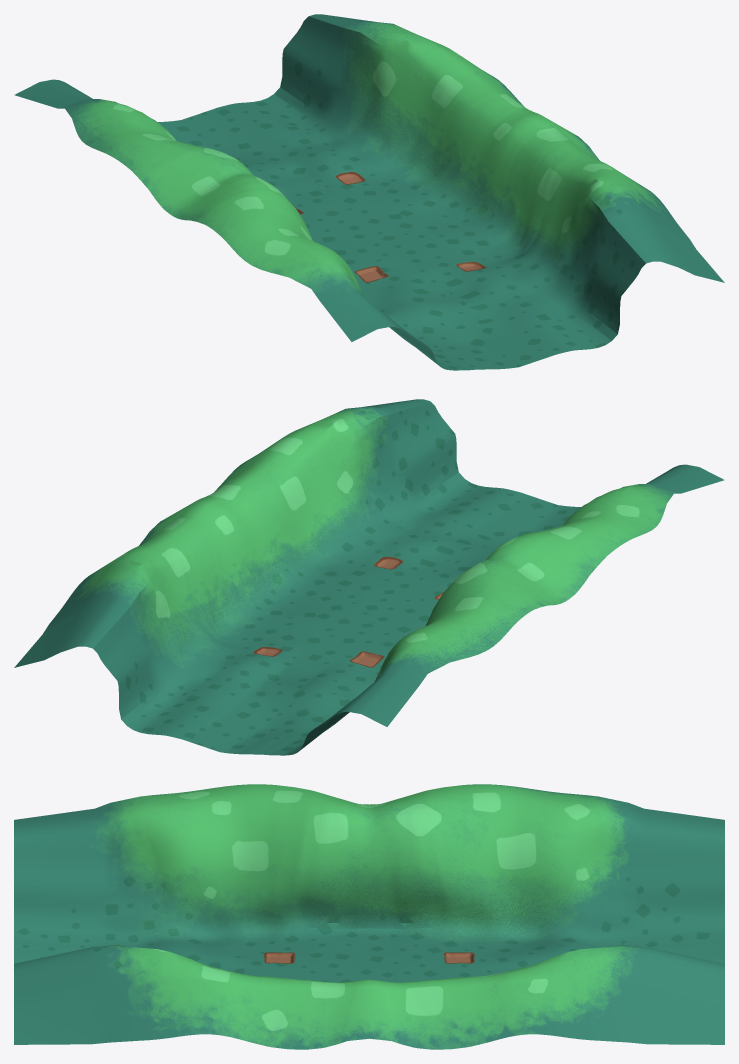
The model's file is title_mountain_02.fbx.
3 views of the same model, one above another, from view 1: azimuth 30°, elevation 25°; view 2: azimuth 150°, elevation 25°; view 3: azimuth 270°, elevation 25° (orthographic). The views are drawn at different scales.
Parts seen in each view (by area): view 1: mountain10; view 2: mountain10; view 3: mountain10.
Boxes of the visible parts, x1=… form: mountain10: x1=14, y1=14, x2=724, y2=370; mountain10: x1=14, y1=399, x2=724, y2=755; mountain10: x1=14, y1=784, x2=724, y2=1049.
Bounding box in the file's own units: 10.61 × 2.57 × 14.98.
